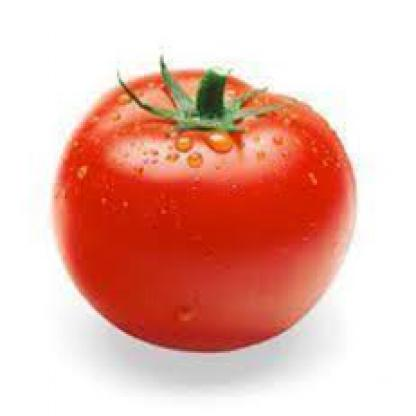Fresh: (56, 59, 351, 357)
